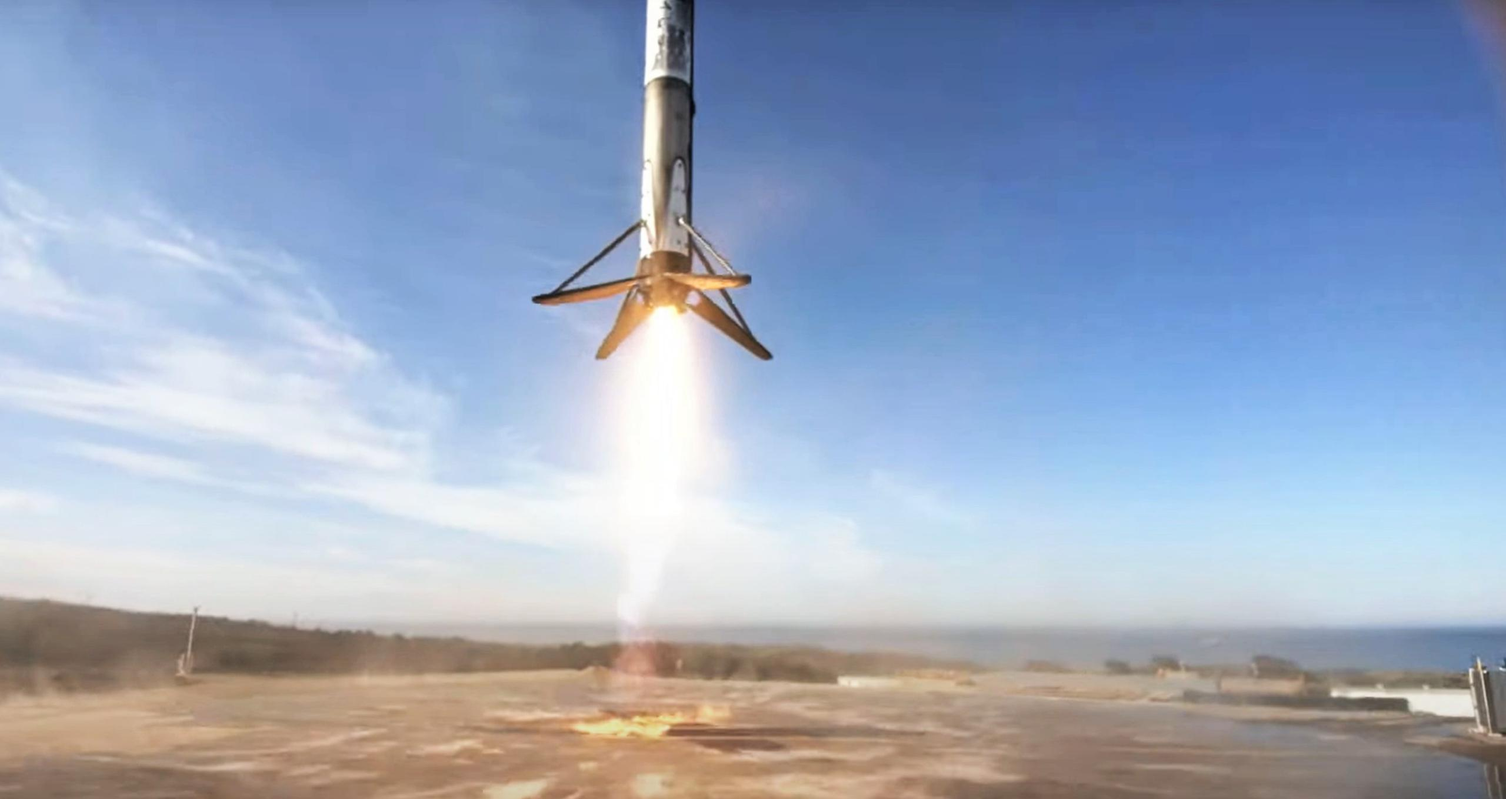falcon: (527, 1, 775, 369)
